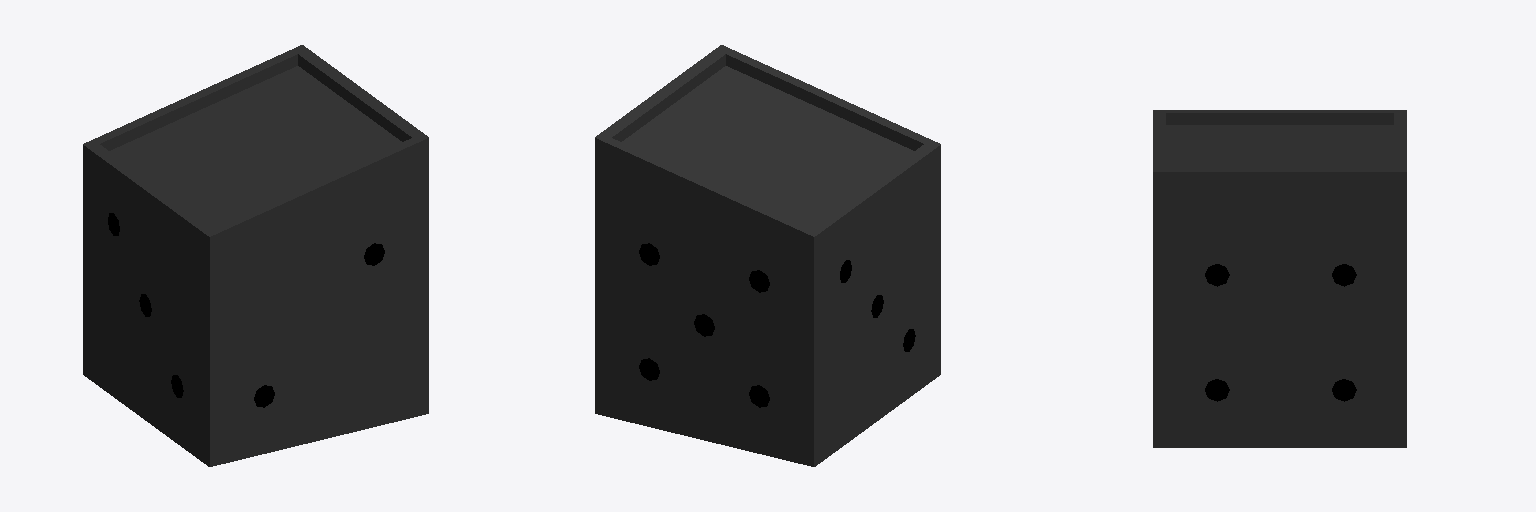
Rendered from DieHolder.obj.
3 views of the same model, side by side, from view 1: azimuth 30°, elevation 25°; view 2: azimuth 150°, elevation 25°; view 3: azimuth 270°, elevation 25° (orthographic).
Parts seen in each view (by area): view 1: Cube; view 2: Cube; view 3: Cube.
Boxes of the visible parts, <box> form: Cube: <box>83,45,428,466</box>; Cube: <box>595,45,940,466</box>; Cube: <box>1153,110,1406,447</box>.
Bounding box in the file's own units: 1 × 1.2 × 1.